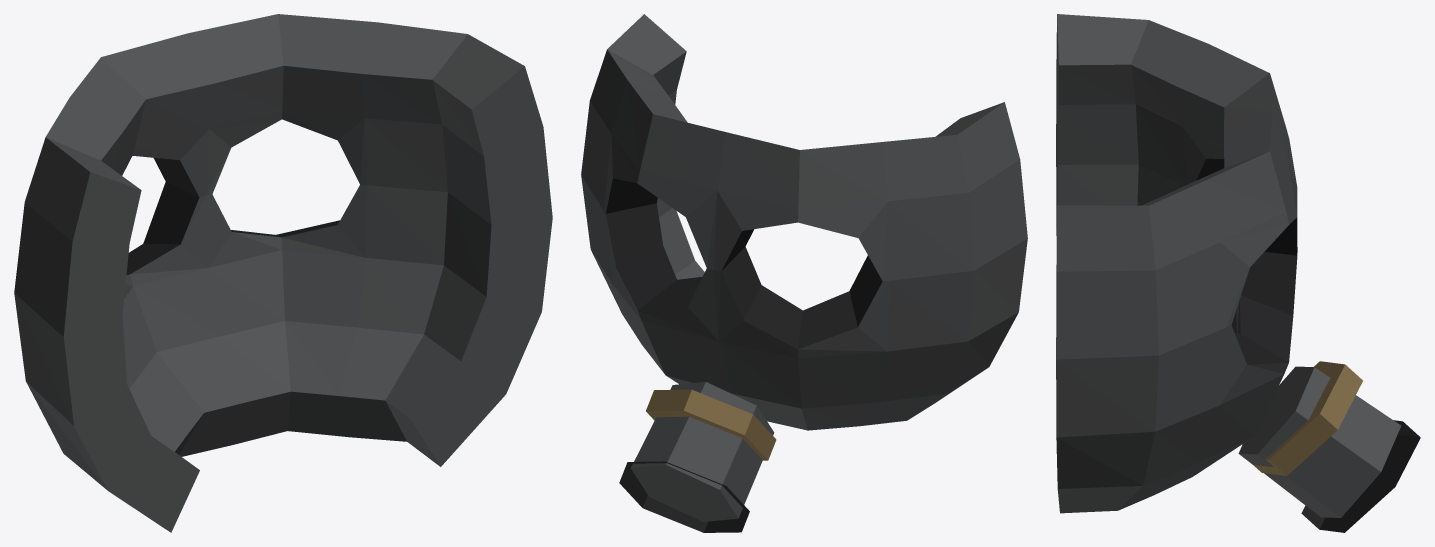
File: person_hat_gas_mask.obj
The picture shows the model from 3 angles, left to right: view 1: azimuth 30°, elevation 25°; view 2: azimuth 150°, elevation 25°; view 3: azimuth 270°, elevation 25°; orthographic projection. The views are drawn at different scales.
Visible parts, largest first — view 1: person_hat_gas_mask; view 2: person_hat_gas_mask; view 3: person_hat_gas_mask.
Boxes of the visible parts, box(x1,y1,x2,y2) form: person_hat_gas_mask: box(14, 14, 552, 532); person_hat_gas_mask: box(581, 14, 1027, 532); person_hat_gas_mask: box(1056, 14, 1420, 532).
Size of the model in its own units: 0.5672 by 0.5165 by 0.4065.
